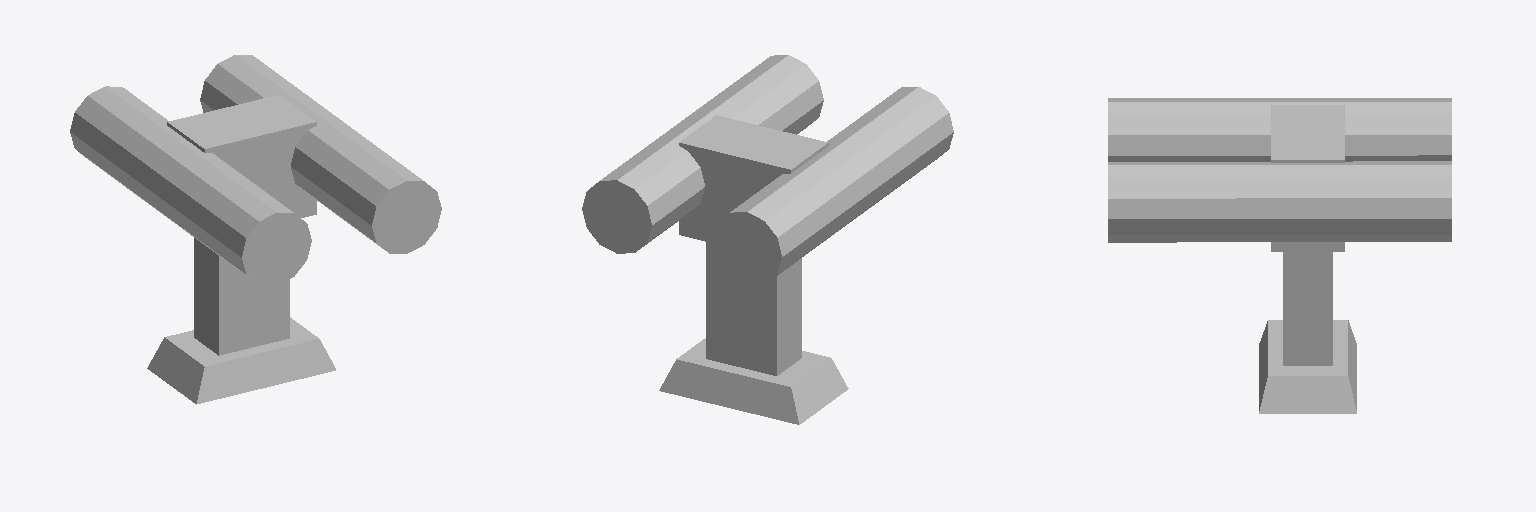
File: CoyoteTurret.obj
3 views of the same model, side by side, from view 1: azimuth 30°, elevation 25°; view 2: azimuth 150°, elevation 25°; view 3: azimuth 270°, elevation 25° (orthographic).
Parts seen in each view (by area): view 1: polySurface1; view 2: polySurface1; view 3: polySurface1.
Boxes of the visible parts, <box> form: polySurface1: <box>70,55,441,404</box>; polySurface1: <box>582,55,953,424</box>; polySurface1: <box>1108,98,1451,413</box>.
Size of the model in its own units: 3.24 by 3.82 by 4.81.